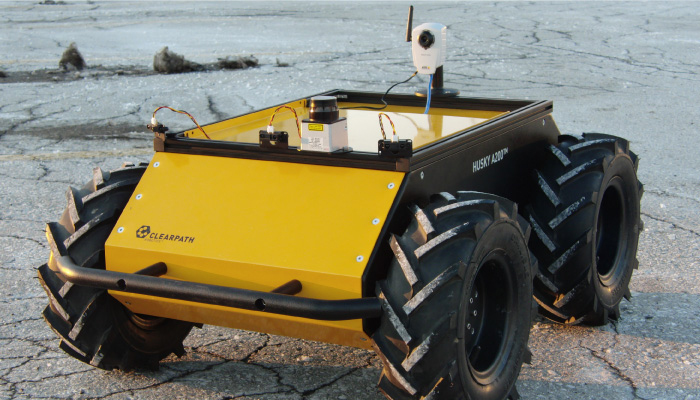husky: (35, 89, 645, 400)
